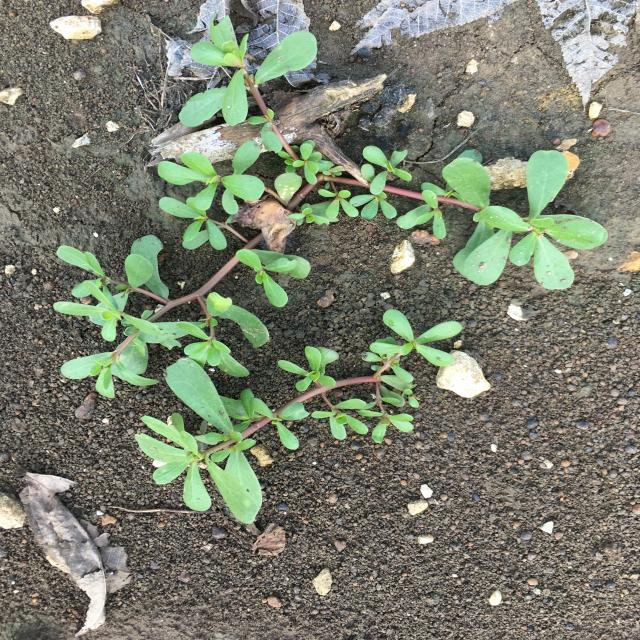Purslane: (53, 15, 609, 398), (135, 308, 462, 524)
